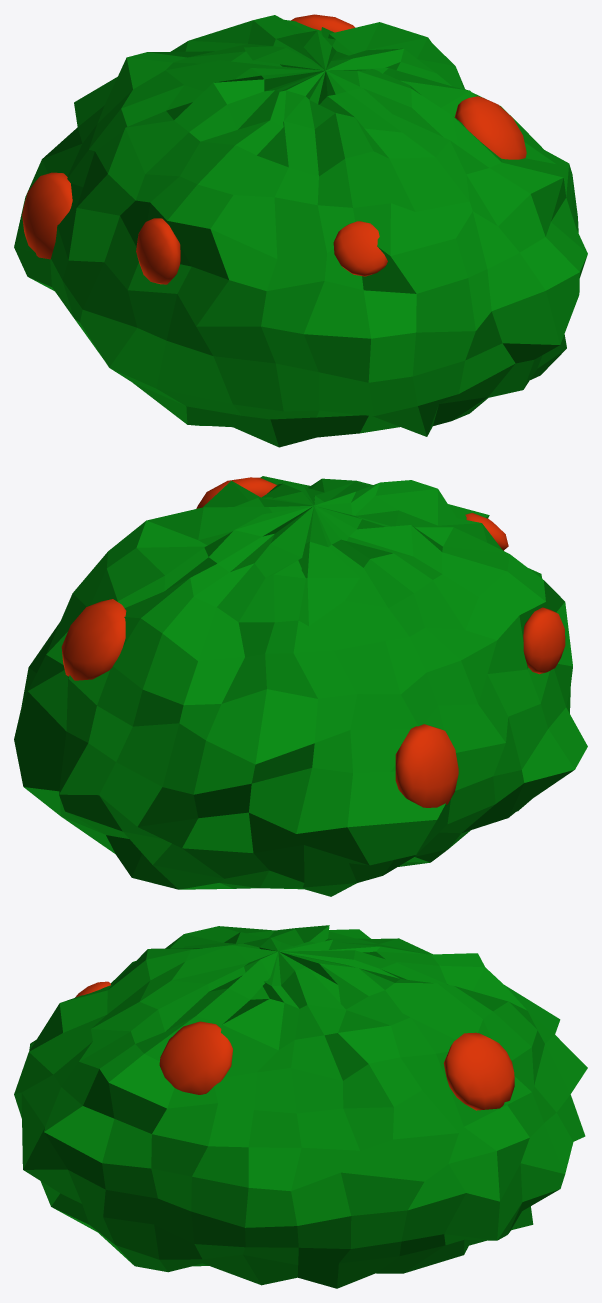
The model's file is buisson plaine.fbx.
3 renders of one model, top to bottom at view 1: azimuth 30°, elevation 25°; view 2: azimuth 150°, elevation 25°; view 3: azimuth 270°, elevation 25°, orthographic. The views are drawn at different scales.
Parts seen in each view (by area): view 1: Sphere, Sphere.002, Sphere.006, Sphere.003, Sphere.004, Sphere.001; view 2: Sphere, Sphere.002, Sphere.001, Sphere.003, Sphere.006; view 3: Sphere, Sphere.001, Sphere.006.
Boxes of the visible parts, left/top/right/bottom form: Sphere: left=14, top=15, right=587, bottom=447; Sphere.002: left=22, top=172, right=72, bottom=259; Sphere.006: left=454, top=96, right=526, bottom=159; Sphere.003: left=136, top=218, right=180, bottom=284; Sphere.004: left=333, top=221, right=387, bottom=276; Sphere.001: left=291, top=14, right=354, bottom=32; Sphere: left=14, top=476, right=587, bottom=896; Sphere.002: left=395, top=724, right=458, bottom=807; Sphere.001: left=61, top=599, right=126, bottom=680; Sphere.003: left=523, top=607, right=565, bottom=674; Sphere.006: left=196, top=477, right=276, bottom=508; Sphere: left=14, top=925, right=587, bottom=1288; Sphere.001: left=443, top=1032, right=514, bottom=1110; Sphere.006: left=159, top=1021, right=232, bottom=1094.
Size of the model in its own units: 214 by 140 by 246.
